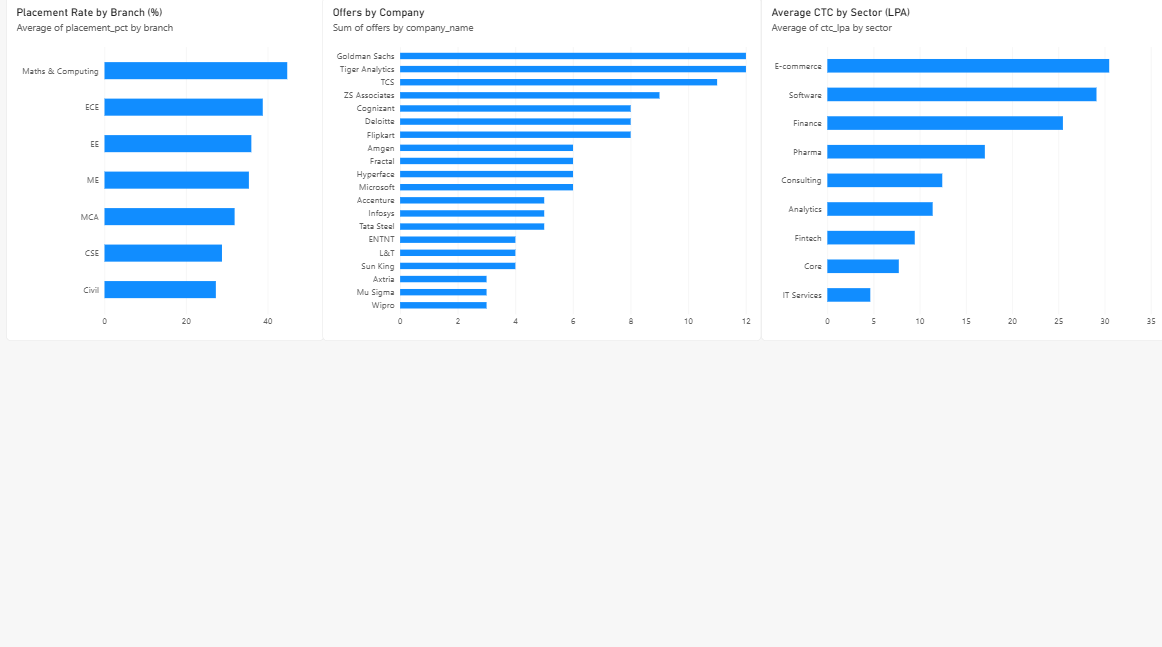

What the dashboard file says about the page in this screenshot:
{"tool":"powerbi","page":{"name":"Branch & Company","canvas":[1920,1080],"ordinal":1},"visuals":[{"type":"clusteredBarChart","title":"\tPlacement Rate by Branch (%)","fields":{"Category":["v_branch_placement.branch"],"Y":["Avg(v_branch_placement.placement_pct)"]},"box":[10.3,0,522.8,566],"z":0},{"type":"clusteredBarChart","title":"Offers by Company","fields":{"Category":["v_company_performance.company_name"],"Y":["Sum(v_company_performance.offers)"]},"box":[531,0,722.5,566],"z":1},{"type":"clusteredBarChart","title":"Average CTC by Sector (LPA)","fields":{"Category":["v_offer_details.sector"],"Y":["Avg(v_offer_details.ctc_lpa)"]},"box":[1253.5,0,666.9,566],"z":2}]}

Visuals, with their boxes in screenshot pixels (x1, y1, x2, y2), scaled from the page's 1920x1080 canvas onto the 1162x647 screenshot:
"	Placement Rate by Branch (%)" clusteredBarChart: left=6, top=0, right=323, bottom=339
"Offers by Company" clusteredBarChart: left=321, top=0, right=759, bottom=339
"Average CTC by Sector (LPA)" clusteredBarChart: left=759, top=0, right=1161, bottom=339
